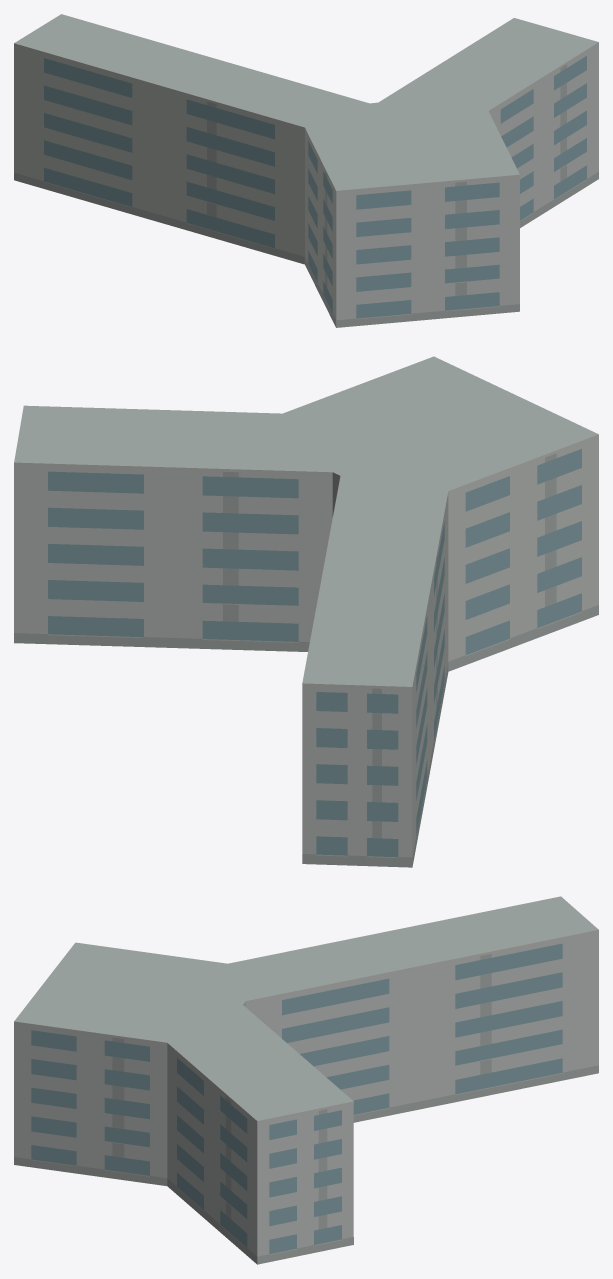
File: residential-8cb79b0d-896e-476f-b384-e92b8b3f86b0.glb
3 views of the same model, one above another, from view 1: azimuth 30°, elevation 25°; view 2: azimuth 150°, elevation 25°; view 3: azimuth 270°, elevation 25° (orthographic). The views are drawn at different scales.
Parts seen in each view (by area): view 1: residential-8cb79b0d-896e-476f-b384-e92b8b3f86b0.tmp; view 2: residential-8cb79b0d-896e-476f-b384-e92b8b3f86b0.tmp; view 3: residential-8cb79b0d-896e-476f-b384-e92b8b3f86b0.tmp.
Boxes of the visible parts, x1=… form: residential-8cb79b0d-896e-476f-b384-e92b8b3f86b0.tmp: x1=14, y1=14, x2=598, y2=327; residential-8cb79b0d-896e-476f-b384-e92b8b3f86b0.tmp: x1=14, y1=356, x2=598, y2=867; residential-8cb79b0d-896e-476f-b384-e92b8b3f86b0.tmp: x1=14, y1=896, x2=598, y2=1264.
Bounding box in the file's own units: 51.25 × 15.25 × 56.35.
